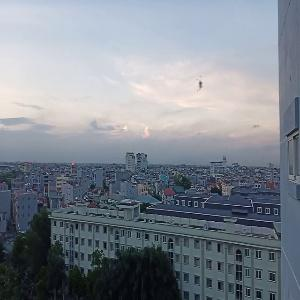drone: (172, 52, 233, 113)
